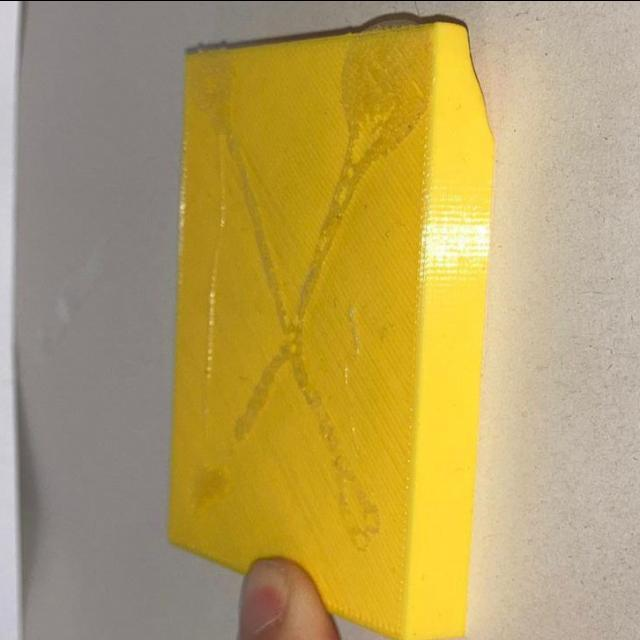Warping: (448, 25, 502, 160)
